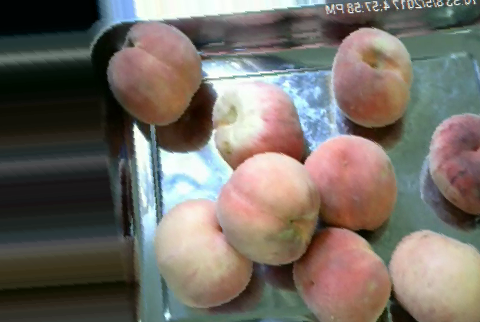Peach: (154, 198, 256, 307), (218, 154, 316, 265), (107, 24, 205, 126), (292, 226, 390, 321), (303, 133, 396, 232), (209, 78, 304, 172), (330, 28, 413, 127), (390, 229, 477, 322), (429, 109, 477, 218)
